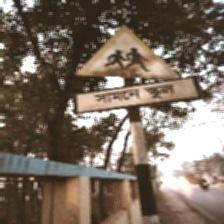School-in-front: (73, 22, 200, 116)
